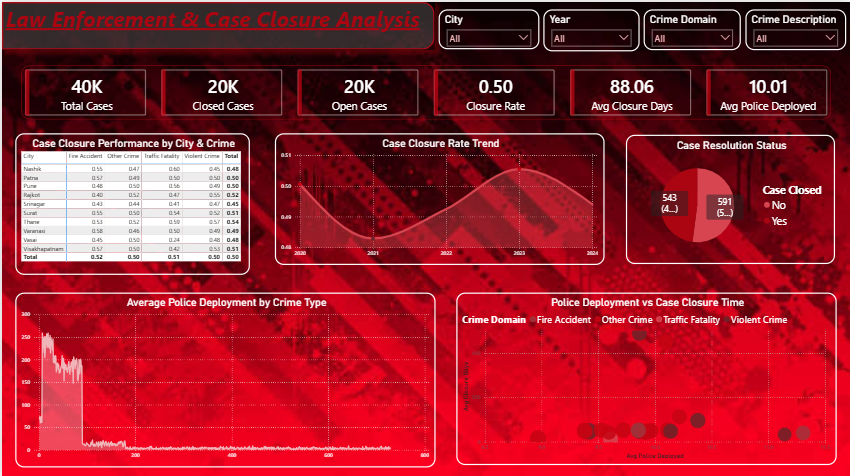

This screenshot's page, from the dashboard's own definition file:
{"tool":"powerbi","page":{"name":"Law Enforcement","canvas":[1920,1080],"ordinal":4},"visuals":[{"type":"shape","box":[0,0,977.5,107.5],"z":0},{"type":"textbox","box":[2.5,0,957.5,107.5],"z":1},{"type":"slicer","title":"Year","fields":{"Values":["crime_clean_data.Year"]},"box":[1222.5,15,217.5,95],"z":2},{"type":"slicer","title":"City","fields":{"Values":["crime_clean_data.City"]},"box":[985,17.5,227.5,90],"z":3},{"type":"slicer","title":"Crime Domain","fields":{"Values":["crime_clean_data.Crime Domain"]},"box":[1450,15,220,92.5],"z":4},{"type":"slicer","title":"Crime Description","fields":{"Values":["crime_clean_data.Year"]},"box":[1680,15,227.5,92.5],"z":5},{"type":"cardVisual","title":"Crime Description","fields":{"Data":["crime_clean_data.Total Cases","crime_clean_data.Closed Cases","crime_clean_data.Open Cases","crime_clean_data.Closure Rate","crime_clean_data.Avg Closure Days","crime_clean_data.Avg Police Deployed"]},"box":[27.5,127.5,1865,155],"z":6},{"type":"pieChart","title":"Case Resolution Status","fields":{"Category":["crime_clean_data.Case Closed"],"Y":["crime_clean_data.Total Cases"]},"box":[1410,300,472.5,292.5],"z":7},{"type":"areaChart","title":"Case Closure Rate Trend","fields":{"Category":["crime_clean_data.Year"],"Y":["crime_clean_data.Closure Rate"]},"box":[617.7,296.1,745,297.5],"z":8},{"type":"stackedAreaChart","title":"Average Police Deployment by Crime Type","fields":{"Category":["crime_clean_data.Case Closure Days"],"Y":["CountNonNull(crime_clean_data.Crime Description)"]},"box":[30,655,950,395],"z":9},{"type":"scatterChart","title":"Police Deployment vs Case Closure Time","fields":{"X":["crime_clean_data.Avg Police Deployed"],"Y":["crime_clean_data.Avg Closure Days"],"Size":["crime_clean_data.Total Cases"],"Series":["crime_clean_data.Crime Domain"],"Category":["crime_clean_data.Crime Description"]},"box":[1025,655,860,390],"z":10},{"type":"pivotTable","title":"Case Closure Performance by City & Crime ","fields":{"Rows":["crime_clean_data.City"],"Columns":["crime_clean_data.Crime Domain"],"Values":["crime_clean_data.Closure Rate"]},"box":[30,295,530,320],"z":11}]}

Visuals, with their boxes in screenshot pixels (x1, y1, x2, y2), scaled from the page's 1920x1080 canvas onto the 850x476 screenshot:
shape: (left=0, top=0, right=433, bottom=47)
textbox: (left=1, top=0, right=425, bottom=47)
"Year" slicer: (left=541, top=7, right=638, bottom=48)
"City" slicer: (left=436, top=8, right=537, bottom=47)
"Crime Domain" slicer: (left=642, top=7, right=739, bottom=47)
"Crime Description" slicer: (left=744, top=7, right=844, bottom=47)
"Crime Description" cardVisual: (left=12, top=56, right=838, bottom=125)
"Case Resolution Status" pieChart: (left=624, top=132, right=833, bottom=261)
"Case Closure Rate Trend" areaChart: (left=273, top=131, right=603, bottom=262)
"Average Police Deployment by Crime Type" stackedAreaChart: (left=13, top=289, right=434, bottom=463)
"Police Deployment vs Case Closure Time" scatterChart: (left=454, top=289, right=835, bottom=461)
"Case Closure Performance by City & Crime " pivotTable: (left=13, top=130, right=248, bottom=271)
